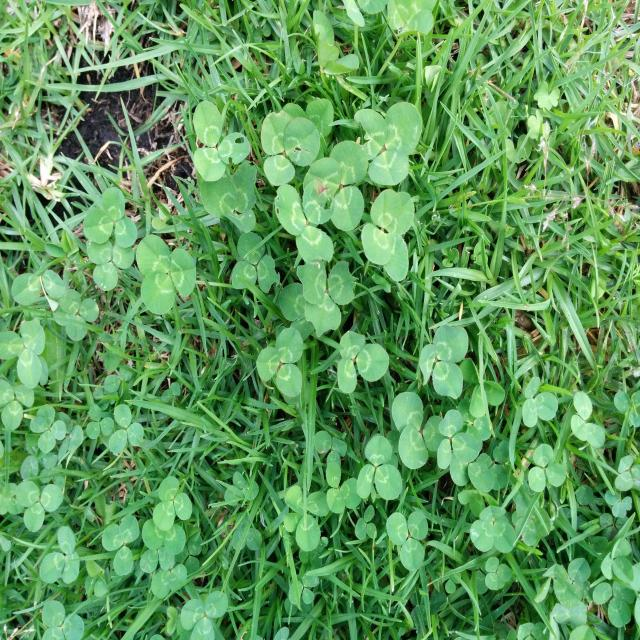Four Leaf Clover: (361, 189, 414, 281)
